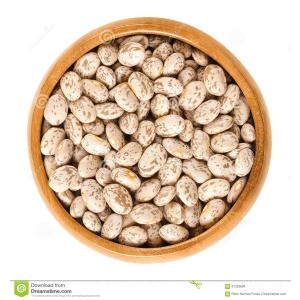beans_brain food: (81, 96, 216, 187)
